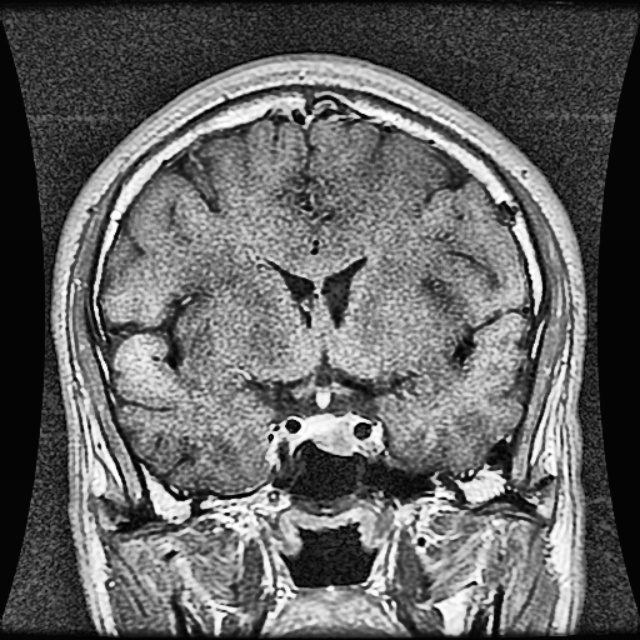Pituitary: (302, 412, 355, 452)
